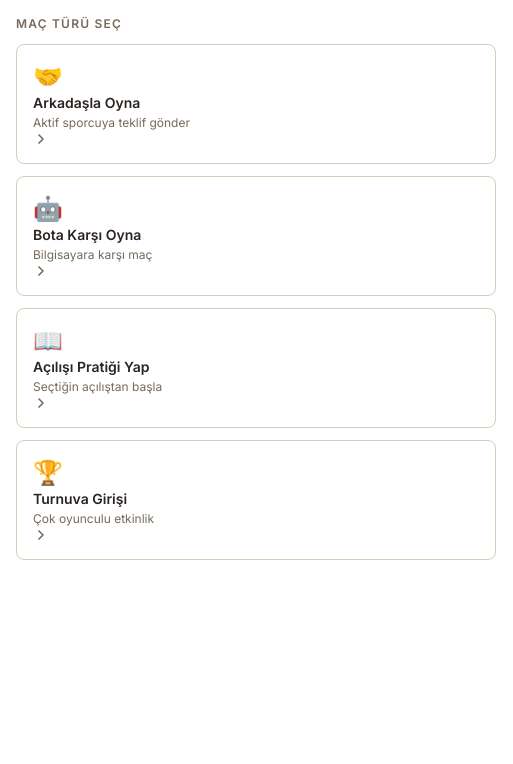
/play — 4 sekme (madde a) › Bota Karşı Oyna seçilince kriter ekranı açılır
Click the text "Bota Karşı Oyna". click: x=87, y=234
box: [33, 226, 141, 243]
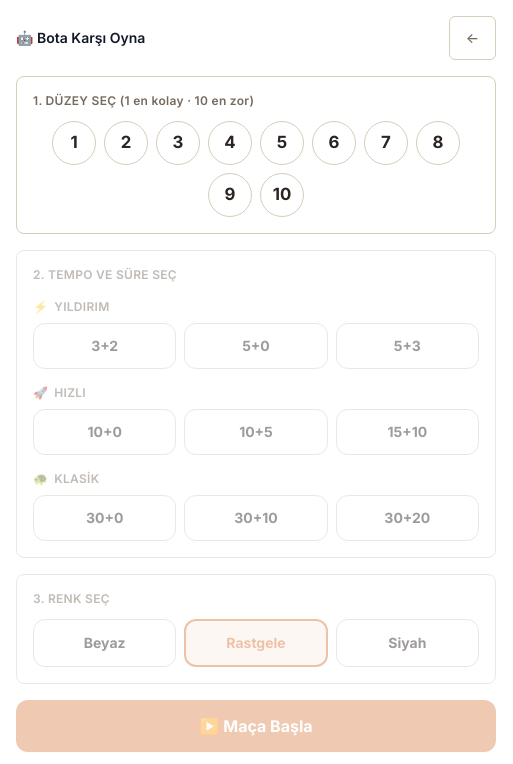
Now the button named "Düzey 1" is shown, box [52, 121, 96, 165]
Now the button "Rastgele" is shown, box [184, 619, 328, 667]
